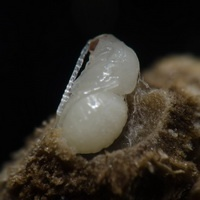insect: (0, 34, 199, 199), (57, 34, 138, 153)
